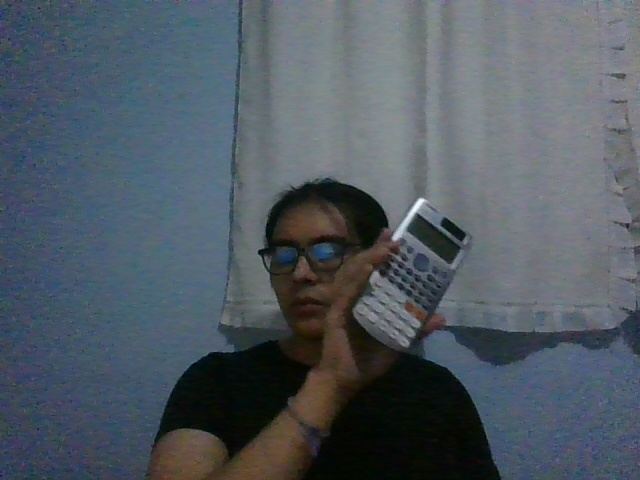calculadora: (353, 197, 474, 356)
